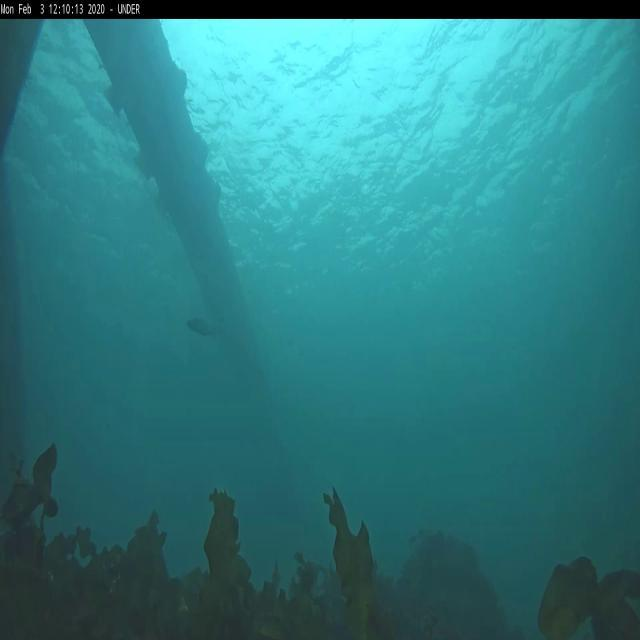fish: (188, 316, 216, 338)
